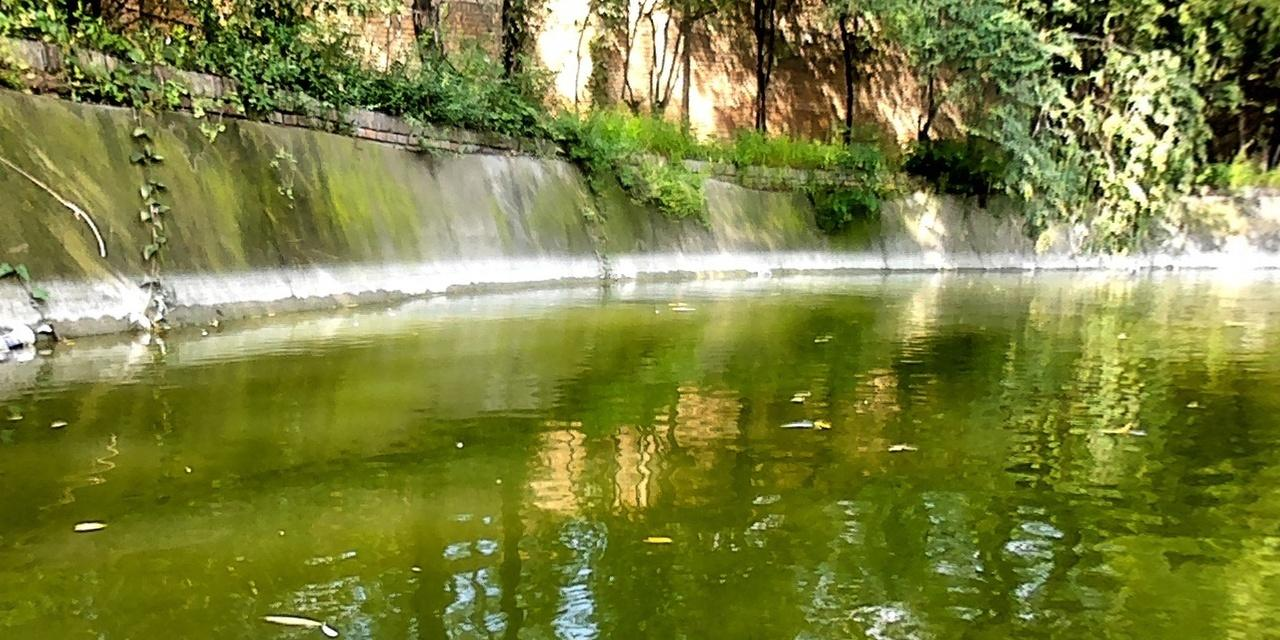bottle: (0, 324, 35, 358)
